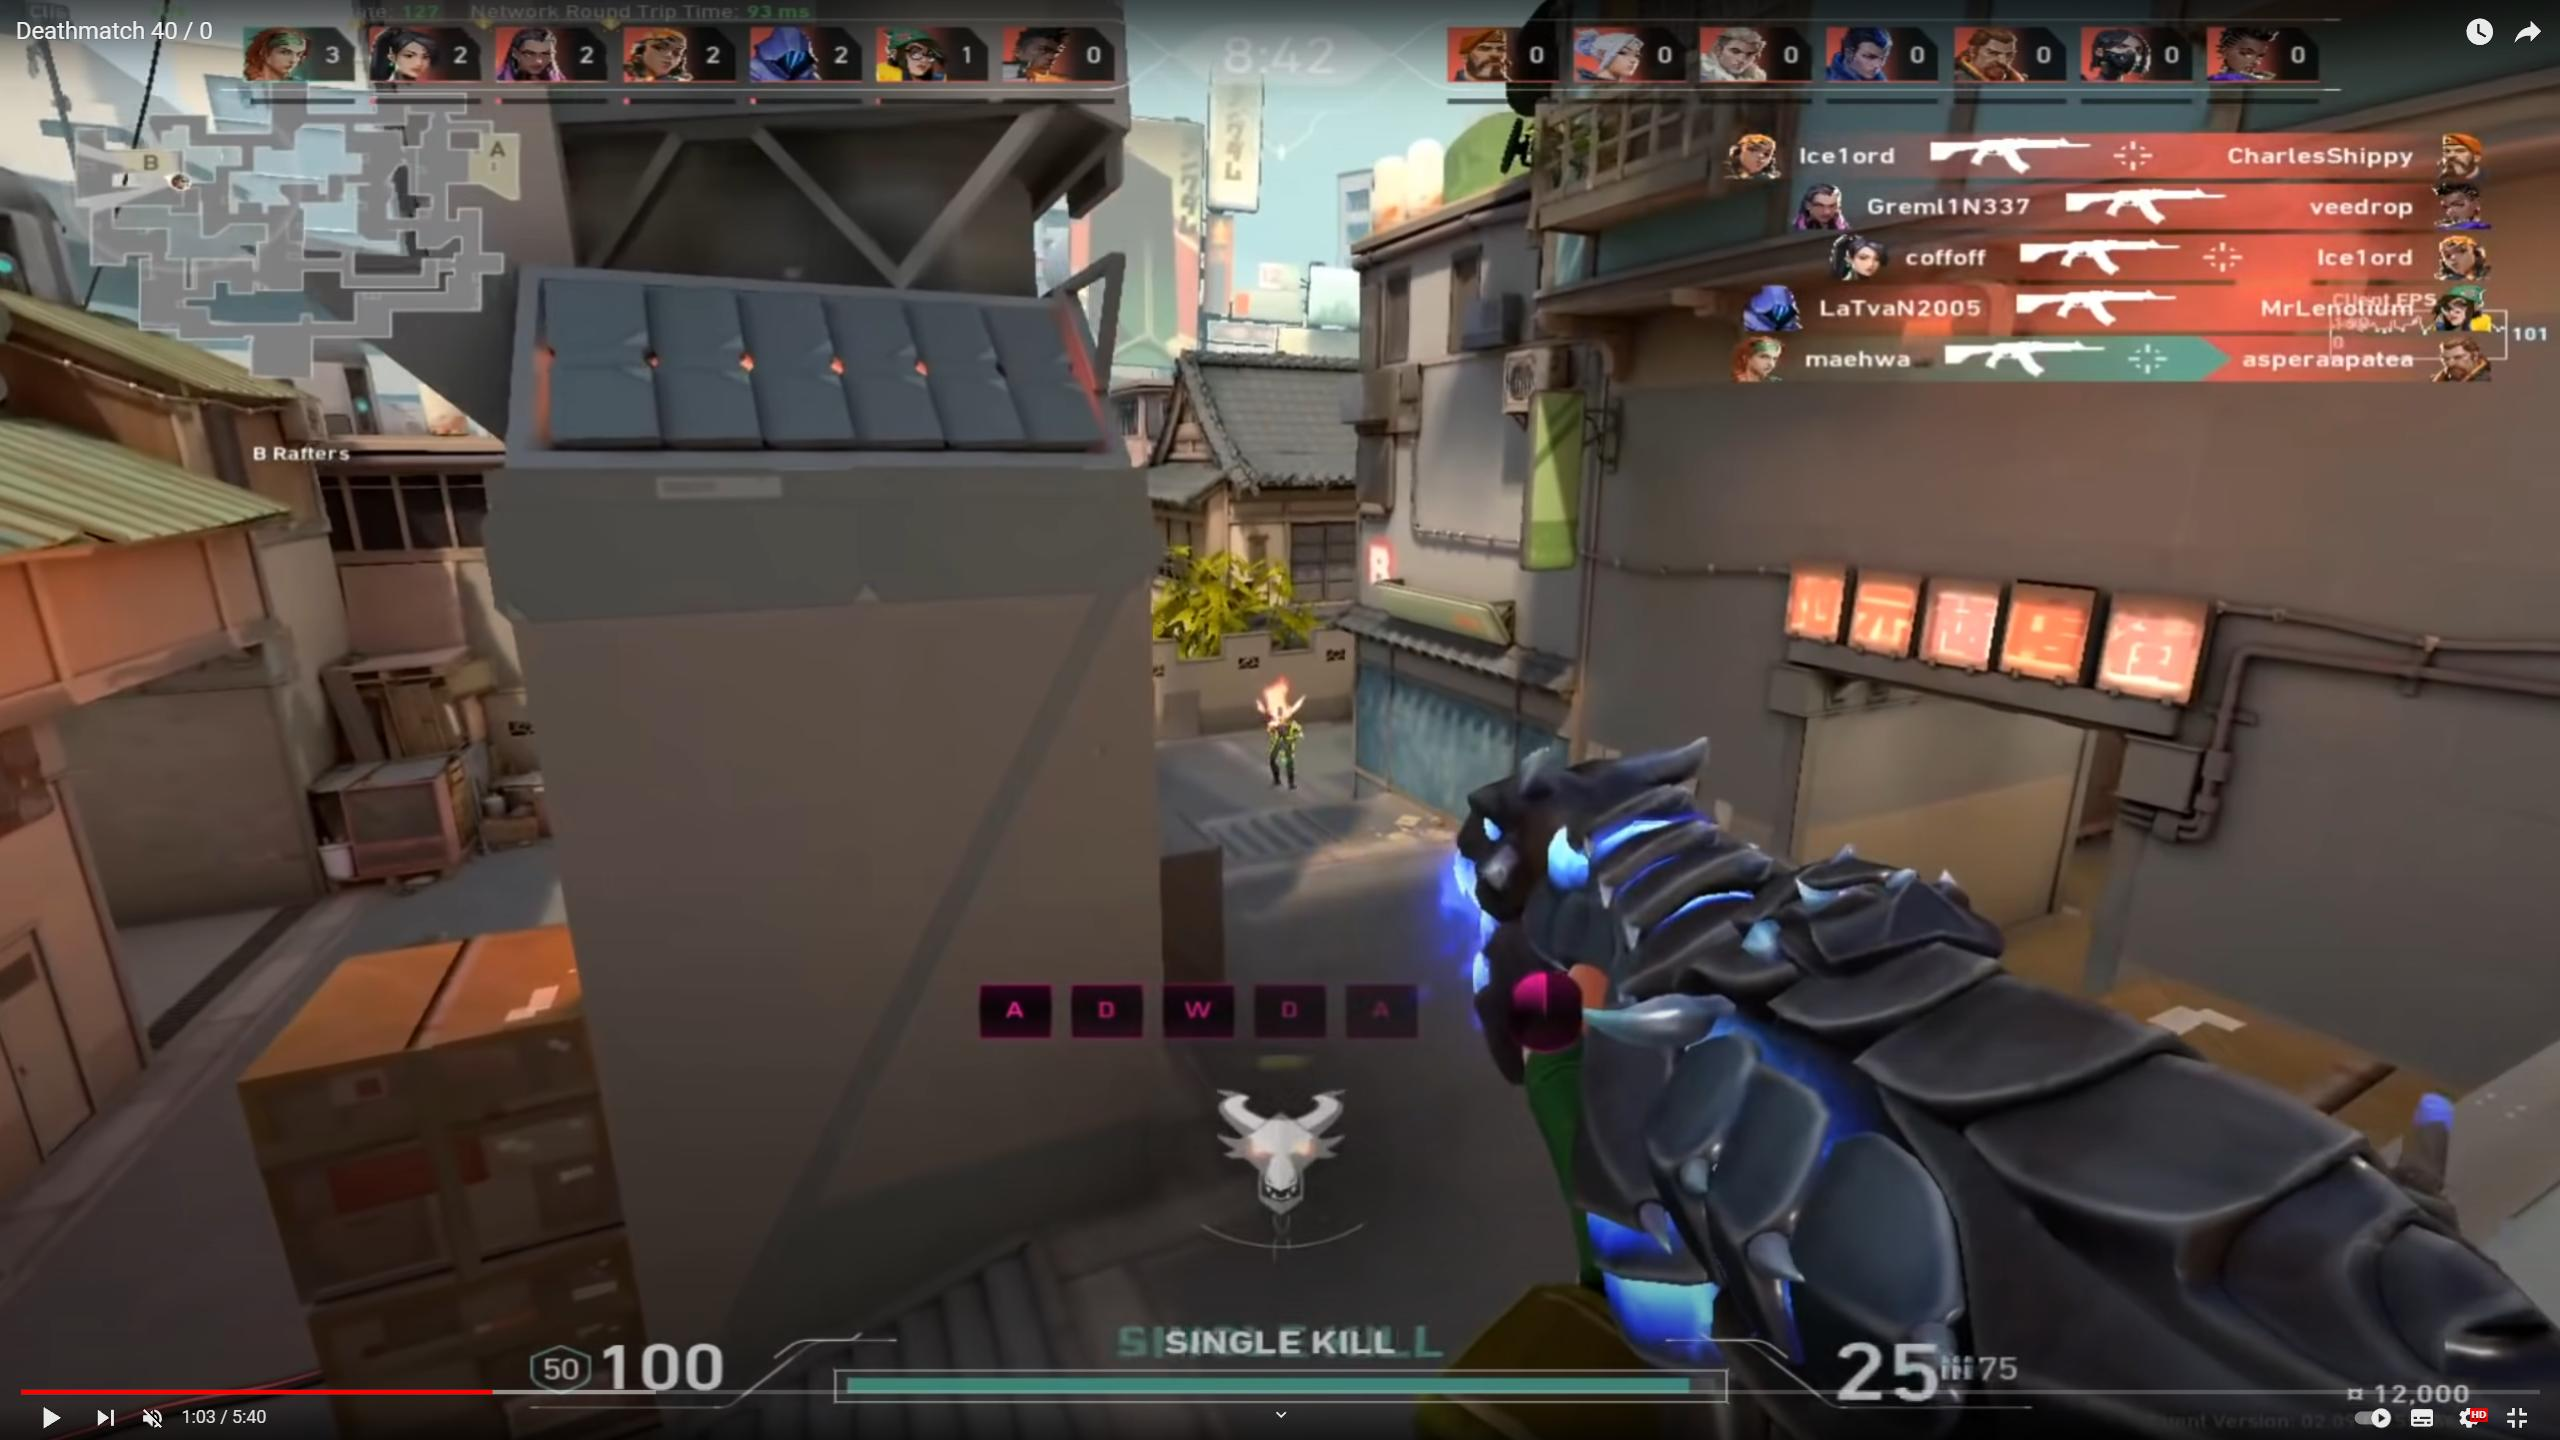enemyHead: (1266, 686, 1296, 712)
